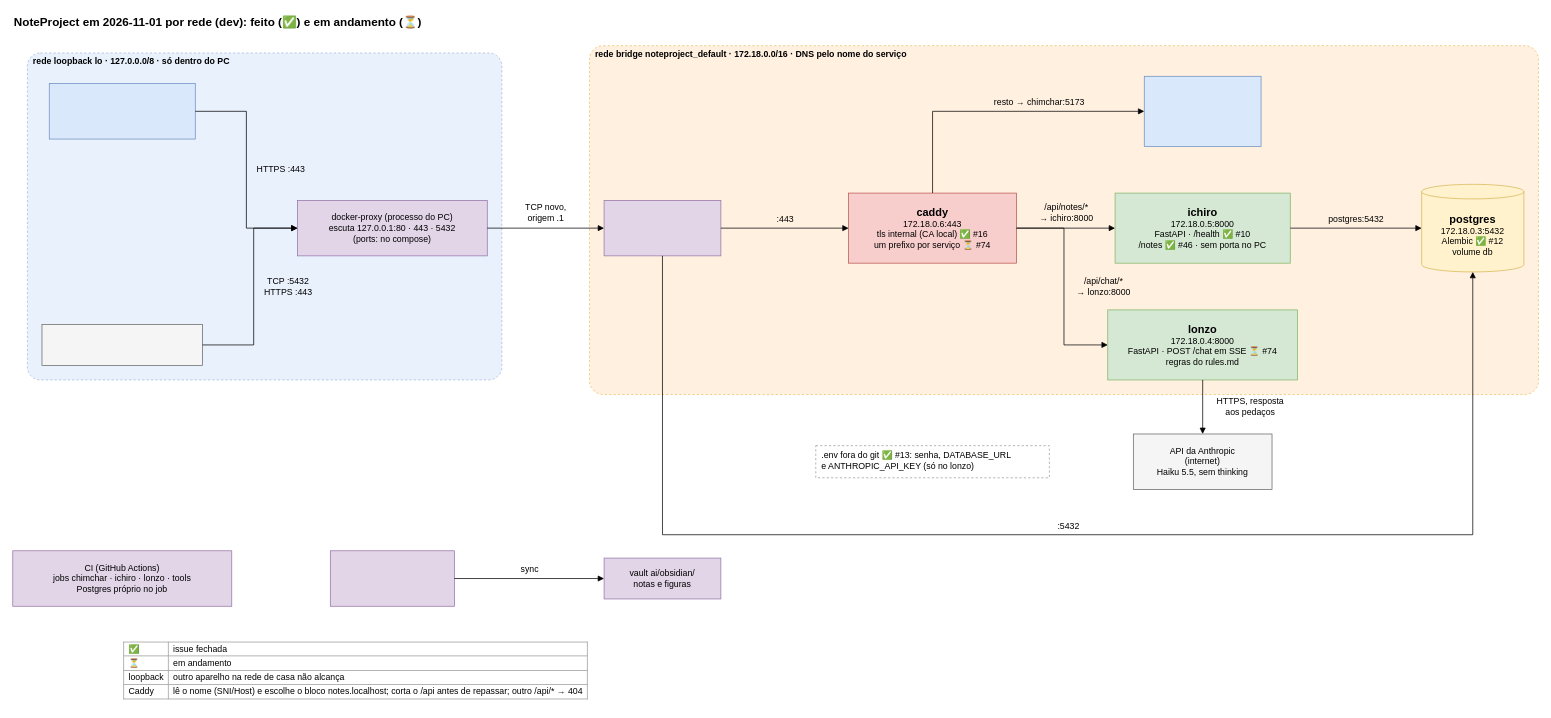
The diagram is 1551 pixels wide and 718 high, and some of its shapes have lost their labels. Each missing label, with the centre of its shape:
"chimchar 172.18.0.2:5173 Vite + CodeMirror 6 sem porta no PC" goes at point 1202,111.
"navegador https://notes.localhost (*.localhost = loopback)" goes at point 122,111.
"PC na rede Docker br-9964… 172.18.0.1 (gateway)" goes at point 662,228.
"terminal pytest, psql :5432, curl -N" goes at point 122,344.
"workspace de IA ✅ #4 ai/np, lint W01–W17, hooks, skills" goes at point 392,578.
